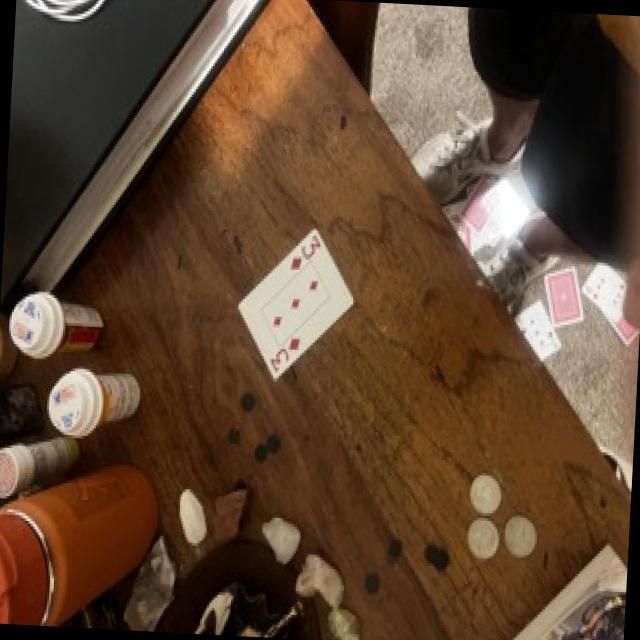3 of diamonds: (238, 229, 353, 379)
